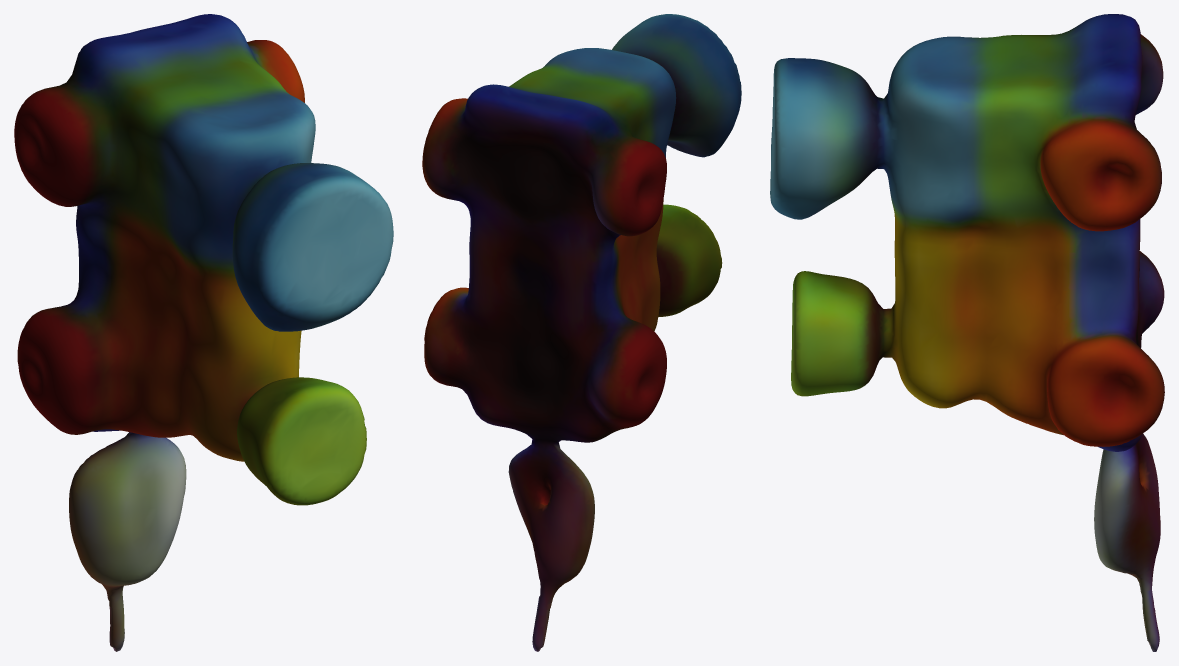
File: train.glb
3 renders of one model, left to right at view 1: azimuth 30°, elevation 25°; view 2: azimuth 150°, elevation 25°; view 3: azimuth 270°, elevation 25°, orthographic. The views are drawn at different scales.
Size of the model in its own units: 0.4193 by 0.9976 by 0.5764.
